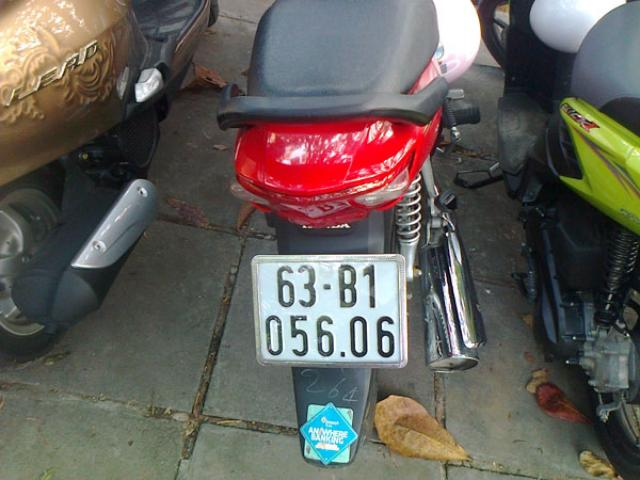plate: (252, 253, 414, 365)
